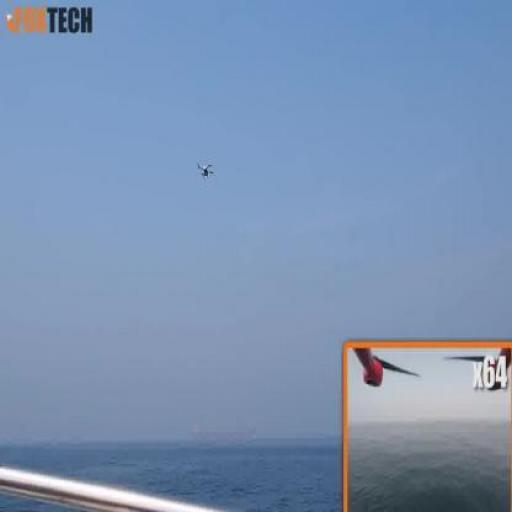drone: (196, 161, 215, 177)
